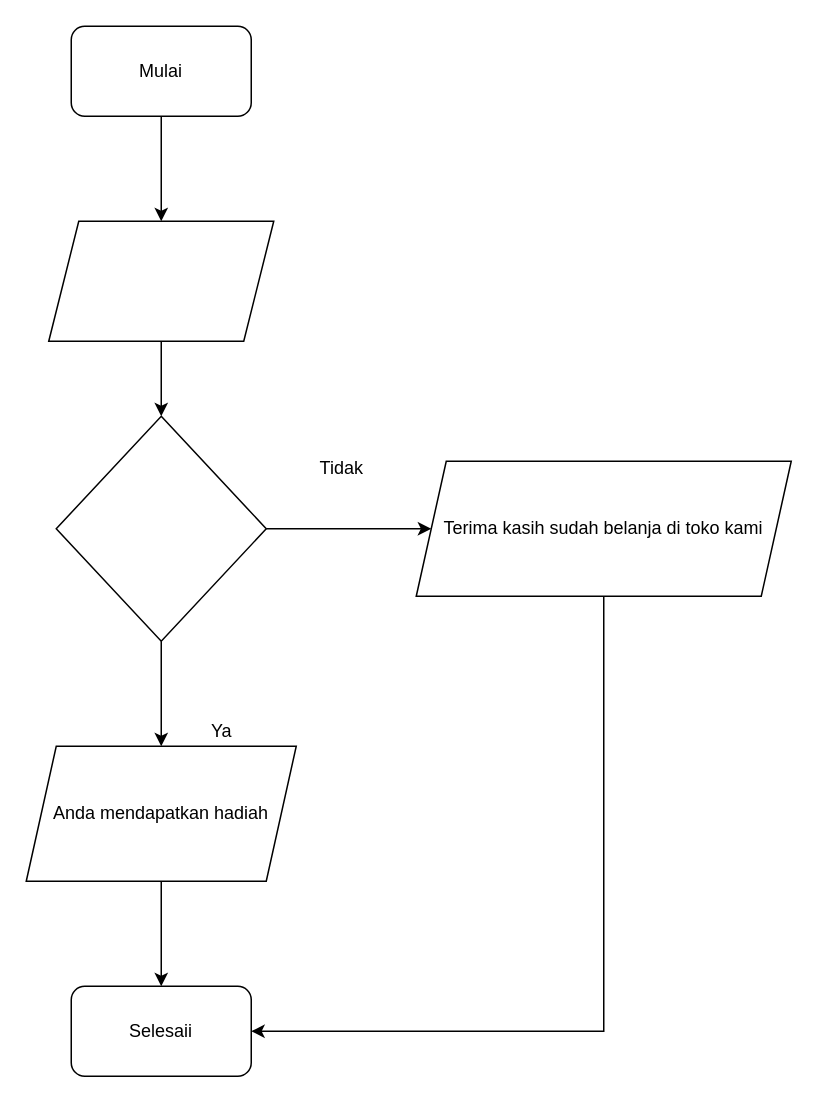
This 818x1103 diagram has some shape labels left out. Here are the shapes that lost their labels. From the top down, the centre of each, then its label:
At point (160, 280): "Input Total Belanja".
At point (160, 528): "Total belanja>100.000".
